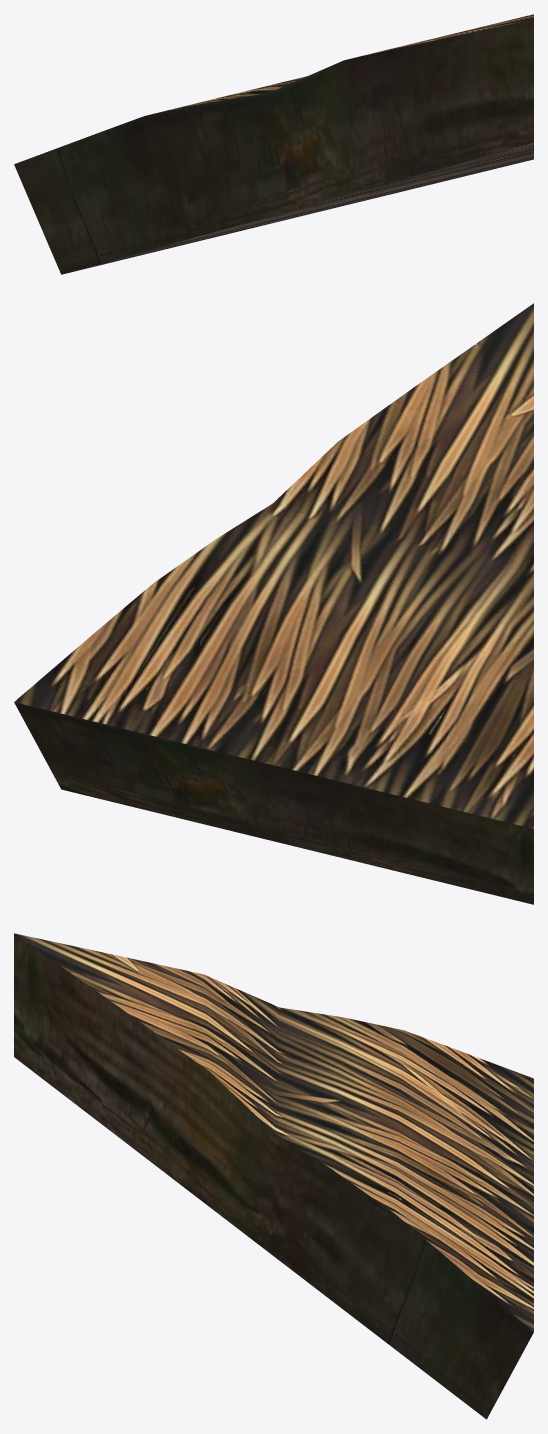
3 renders of one model, top to bottom at view 1: azimuth 30°, elevation 25°; view 2: azimuth 150°, elevation 25°; view 3: azimuth 270°, elevation 25°, orthographic.
Visible parts, largest first — view 1: SM_BB_T1_Extended_Roof_Triangle_Shallow_Med_Inverted_LOD0; view 2: SM_BB_T1_Extended_Roof_Triangle_Shallow_Med_Inverted_LOD0; view 3: SM_BB_T1_Extended_Roof_Triangle_Shallow_Med_Inverted_LOD0.
Boxes of the visible parts, bbox=[...] form: SM_BB_T1_Extended_Roof_Triangle_Shallow_Med_Inverted_LOD0: bbox=[14, 14, 533, 274]; SM_BB_T1_Extended_Roof_Triangle_Shallow_Med_Inverted_LOD0: bbox=[14, 303, 533, 904]; SM_BB_T1_Extended_Roof_Triangle_Shallow_Med_Inverted_LOD0: bbox=[14, 933, 533, 1419].
Bounding box in the file's own units: 1.65 × 1.12 × 1.43.
Materials: 3 (3 with a texture image).
